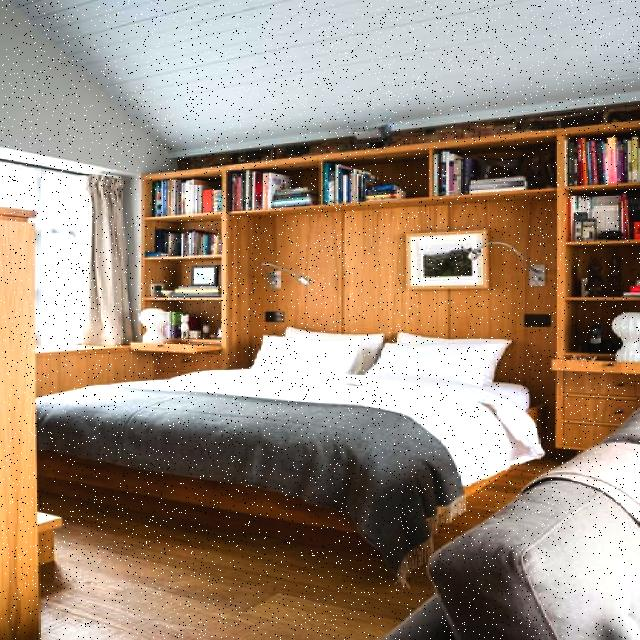bed: (21, 323, 542, 523)
